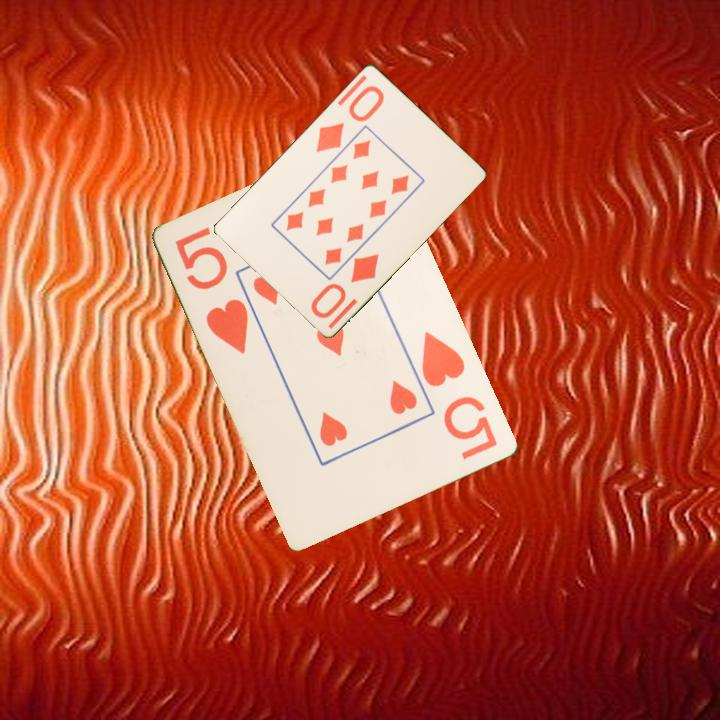10d: (312, 81, 387, 155), (307, 249, 382, 321)
5h: (418, 327, 501, 463), (172, 223, 252, 358)
